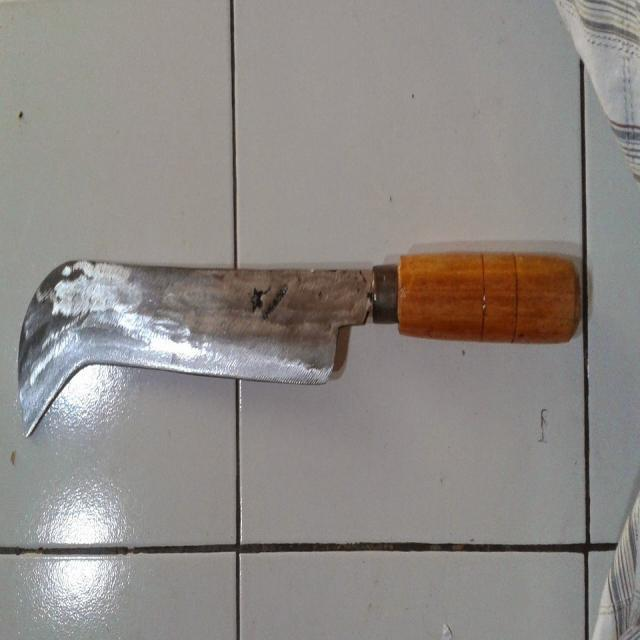Pisau: (7, 249, 586, 458)
